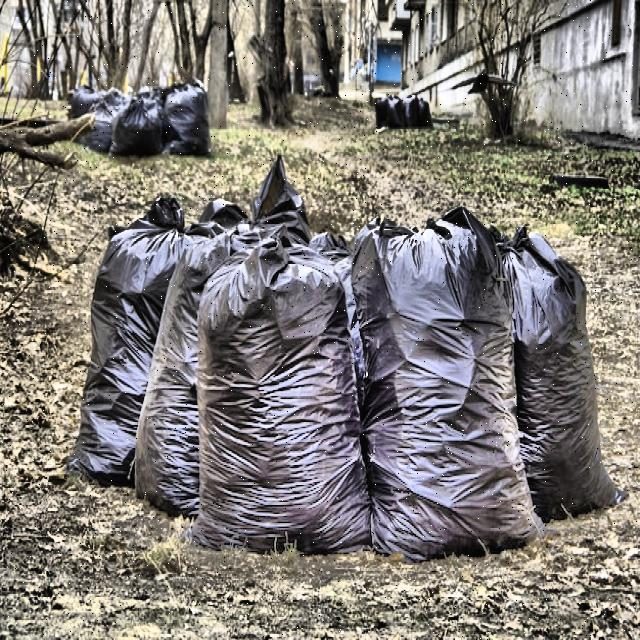Trashbag: (353, 203, 524, 571), (188, 215, 371, 557), (70, 192, 206, 520), (512, 219, 616, 525), (67, 82, 131, 154), (162, 78, 213, 163), (124, 96, 167, 160), (373, 94, 406, 131), (402, 96, 434, 130)
